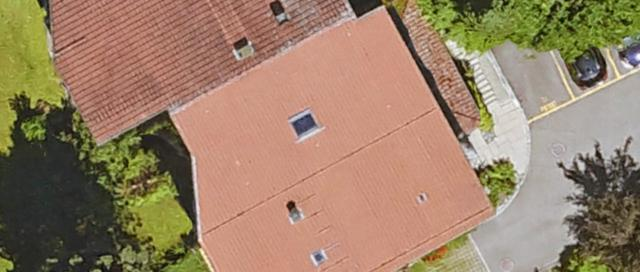tree: (68, 140, 157, 272), (557, 142, 640, 272), (418, 0, 550, 45), (543, 0, 640, 52)
